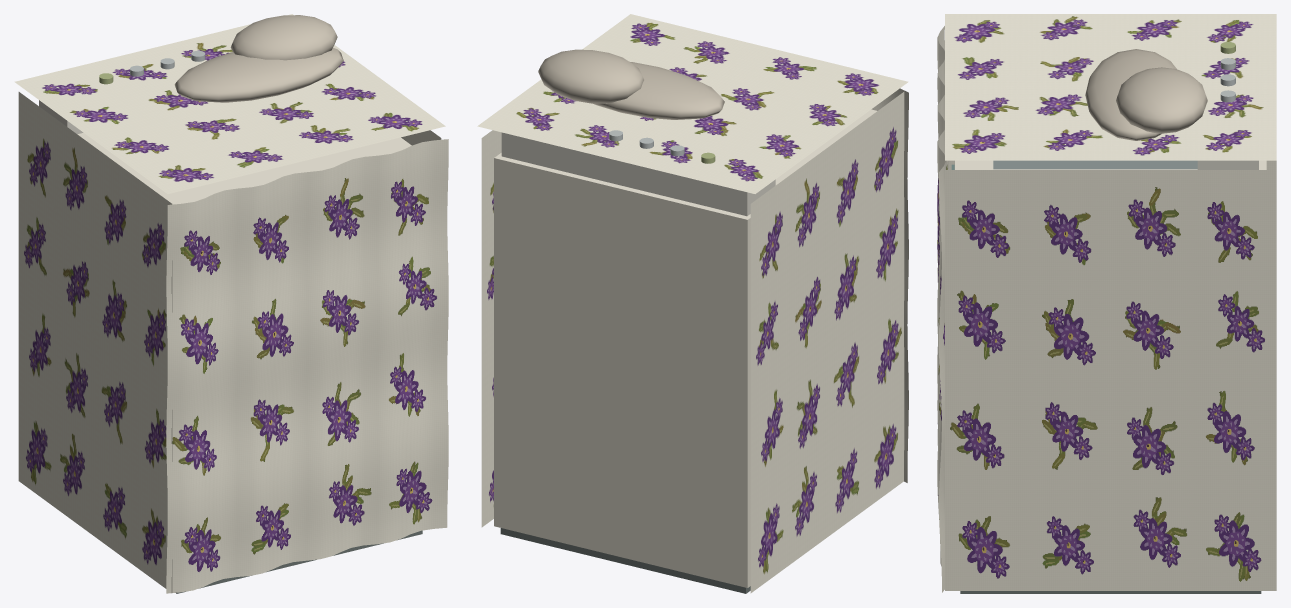
Rendered from washingMachine.glb.
3 views of the same model, side by side, from view 1: azimuth 30°, elevation 25°; view 2: azimuth 150°, elevation 25°; view 3: azimuth 270°, elevation 25° (orthographic). The views are drawn at different scales.
Parts seen in each view (by area): view 1: 紫花洗衣机罩正面, 紫花布罩侧面, 紫花布罩顶面, 搭在机罩上的毛巾, 叠起的毛巾, 洗衣机白色机身; view 2: 洗衣机白色机身, 紫花布罩侧面 (×2), 紫花布罩顶面, 控制台, 叠起的毛巾, 搭在机罩上的毛巾, 紫花洗衣机罩正面, 洗衣机底座; view 3: 紫花布罩侧面, 紫花布罩顶面, 叠起的毛巾, 紫花洗衣机罩正面, 搭在机罩上的毛巾, 顶开洗衣机盖, 洗衣机底座, 洗衣机白色机身, 控制台.
Part boxes in pixels (<box>): 紫花洗衣机罩正面: <box>166,139,448,593</box>; 紫花布罩侧面: <box>18,92,172,592</box>; 紫花布罩顶面: <box>14,14,445,193</box>; 搭在机罩上的毛巾: <box>174,48,343,102</box>; 叠起的毛巾: <box>230,15,337,60</box>; 洗衣机白色机身: <box>77,132,411,204</box>; 洗衣机白色机身: <box>494,109,876,587</box>; 紫花布罩侧面 (×2): <box>481,92,904,593</box>; 紫花布罩顶面: <box>477,14,908,193</box>; 控制台: <box>501,132,775,216</box>; 叠起的毛巾: <box>538,49,643,103</box>; 搭在机罩上的毛巾: <box>593,61,724,119</box>; 紫花洗衣机罩正面: <box>871,88,908,482</box>; 洗衣机底座: <box>500,528,750,593</box>; 紫花布罩侧面: <box>945,170,1276,590</box>; 紫花布罩顶面: <box>945,14,1276,160</box>; 叠起的毛巾: <box>1116,67,1207,133</box>; 紫花洗衣机罩正面: <box>937,26,949,592</box>; 搭在机罩上的毛巾: <box>1085,49,1176,140</box>; 顶开洗衣机盖: <box>993,160,1197,169</box>; 洗衣机底座: <box>960,591,1261,593</box>; 洗衣机白色机身: <box>955,160,1266,169</box>; 控制台: <box>1197,160,1258,169</box>.
Bounding box in the file's own units: 0.68 × 1.06 × 0.665.
Materials: 9 (1 with a texture image).
